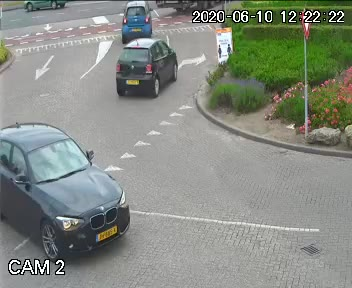car: (0, 115, 154, 269), (116, 36, 173, 97), (116, 1, 158, 40), (16, 0, 77, 15)
